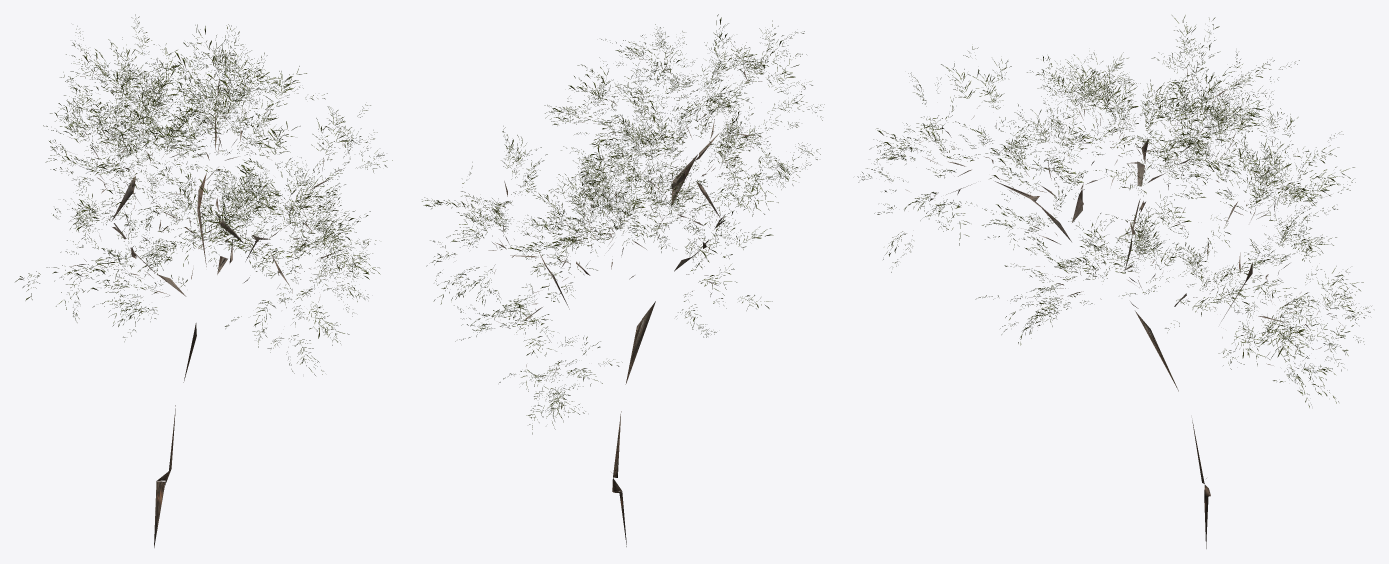
Rendered from canopy-small.glb.
The picture shows the model from 3 angles, left to right: view 1: azimuth 30°, elevation 25°; view 2: azimuth 150°, elevation 25°; view 3: azimuth 270°, elevation 25°; orthographic projection. The views are drawn at different scales.
Parts seen in each view (by area): view 1: tree_small_02_LOD0; view 2: tree_small_02_LOD0; view 3: tree_small_02_LOD0.
Boxes of the visible parts, <box> form: tree_small_02_LOD0: <box>15,14,392,547</box>; tree_small_02_LOD0: <box>422,14,824,546</box>; tree_small_02_LOD0: <box>857,15,1371,548</box>.
Size of the model in its own units: 2.87 by 4.5 by 4.27.
3 materials, 3 textured.
